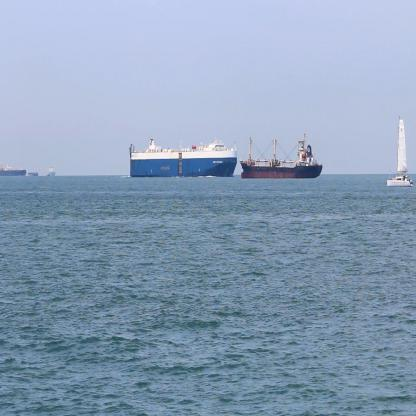Container Ship: (127, 134, 238, 180), (236, 128, 324, 182), (1, 162, 29, 178), (45, 163, 56, 179)
